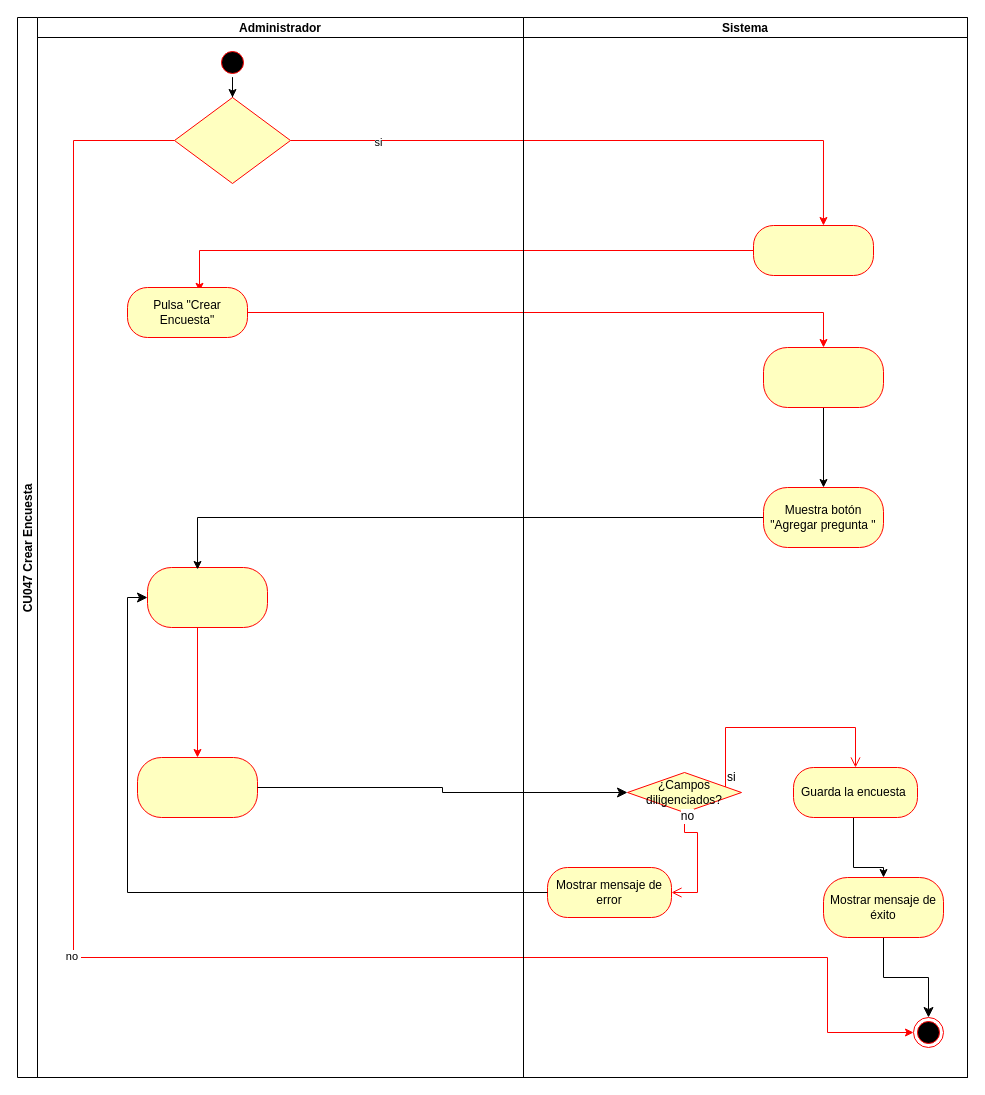
The diagram is 985 pixels wide and 1095 high, and some of its shapes have lost their labels. The shapes that lost their labels are listed below. From the top down, each one's centre as x and y in pixels, then its label:
(232,140): Pulsar el aparatado de "Encuesta"
(813,250): Lo redirige al apartado
(823,377): Muestra los espacios de pregunta.
(207,597): Diligencia las preguntas
(197,787): Pulsar botones y "Guardar la encuesta"
